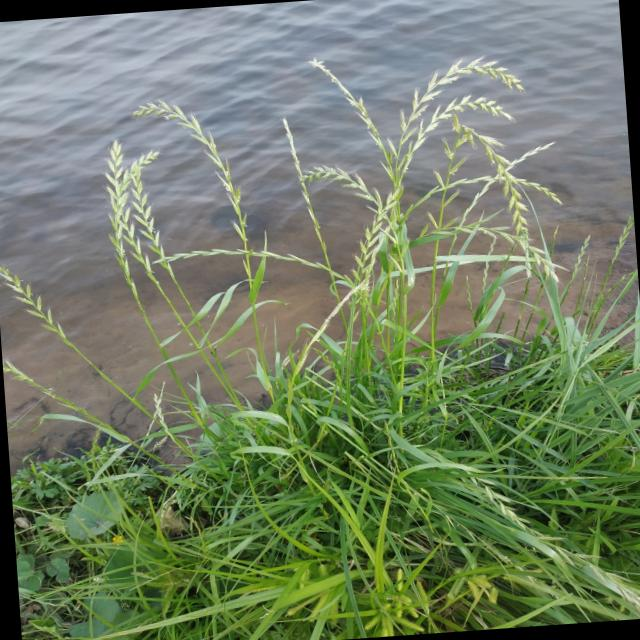Lolium: (0, 34, 640, 640), (320, 50, 540, 461), (86, 133, 286, 478)
